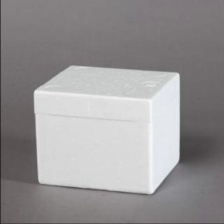foam_box: (27, 60, 186, 198)
